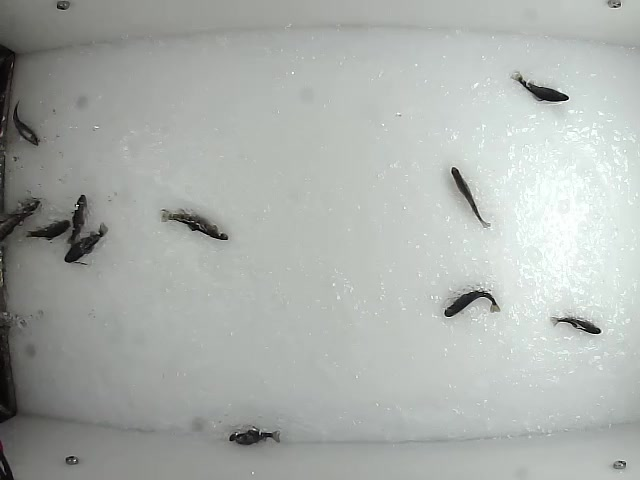fish: (157, 206, 230, 241), (450, 167, 490, 230), (62, 221, 110, 266), (510, 69, 570, 103), (441, 289, 501, 316), (63, 193, 89, 247), (12, 100, 38, 146), (227, 424, 281, 446), (549, 314, 602, 336), (25, 218, 70, 241)
